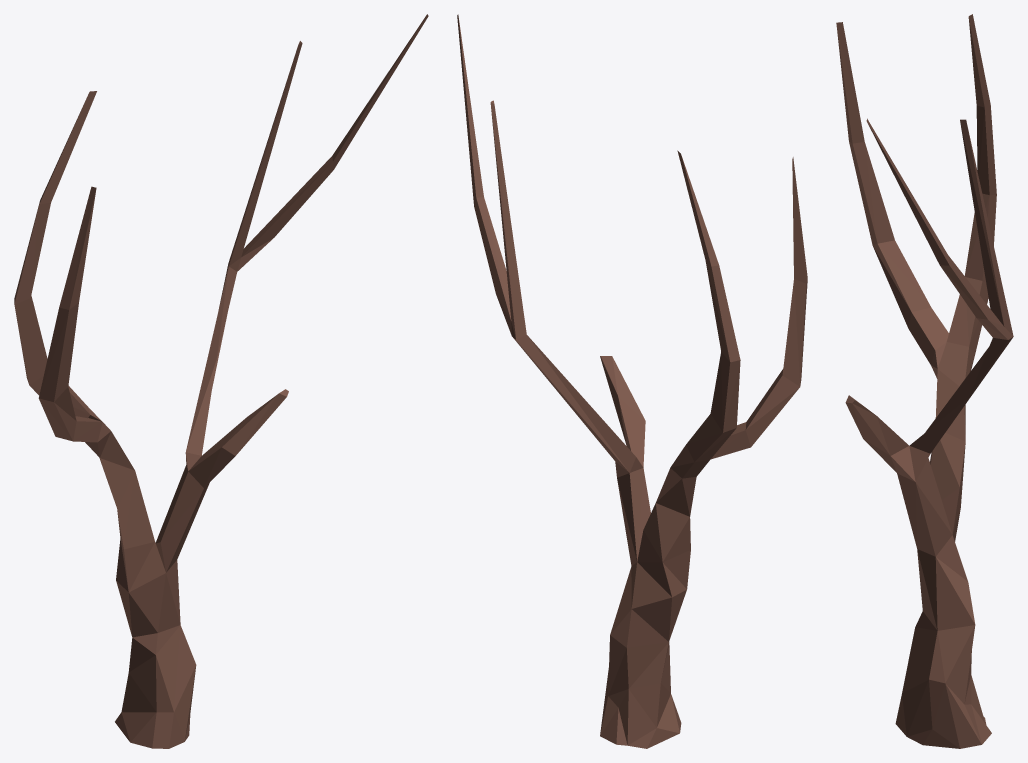
Rendered from Tree_035.glb.
The picture shows the model from 3 angles, left to right: view 1: azimuth 30°, elevation 25°; view 2: azimuth 150°, elevation 25°; view 3: azimuth 270°, elevation 25°; orthographic projection. The views are drawn at different scales.
Parts seen in each view (by area): view 1: Tree_035; view 2: Tree_035; view 3: Tree_035.
Boxes of the visible parts, left/top/right/bottom form: Tree_035: left=14, top=14, right=428, bottom=748; Tree_035: left=457, top=14, right=807, bottom=748; Tree_035: left=836, top=14, right=1013, bottom=748.
Size of the model in its own units: 6.38 by 11.07 by 2.41.
1 material, 1 textured.
